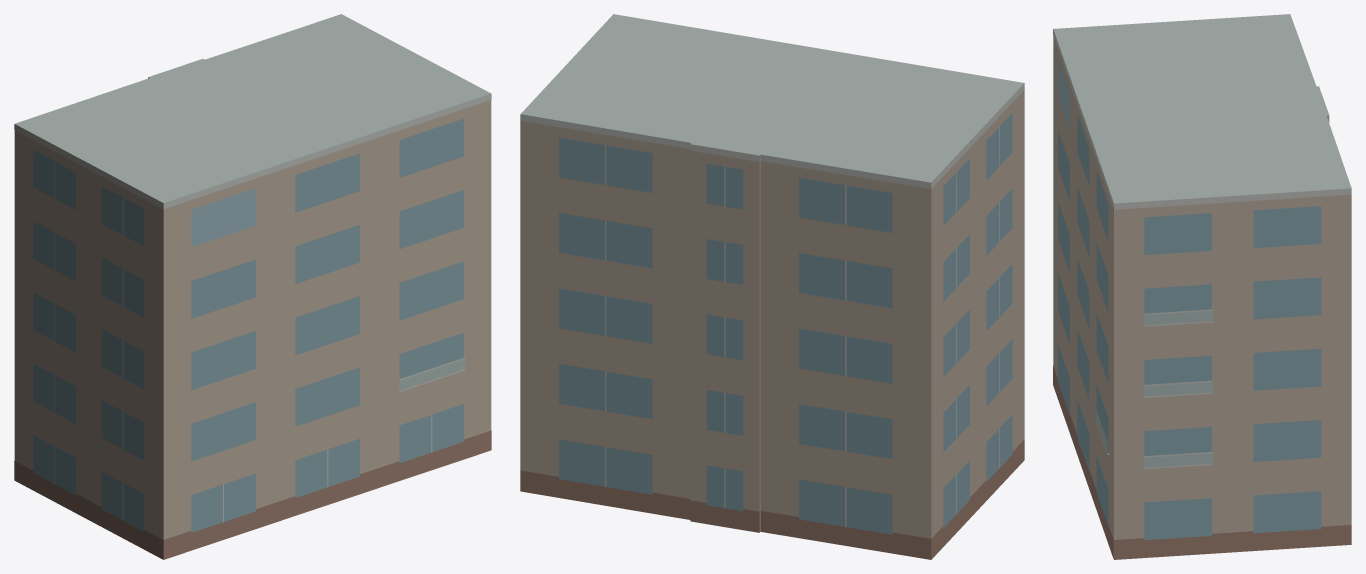
Rendered from survey-upis-32743941.glb.
3 views of the same model, side by side, from view 1: azimuth 30°, elevation 25°; view 2: azimuth 150°, elevation 25°; view 3: azimuth 270°, elevation 25° (orthographic). The views are drawn at different scales.
Visible parts, largest first — view 1: survey-upis-32743941.tmp; view 2: survey-upis-32743941.tmp; view 3: survey-upis-32743941.tmp.
Boxes of the visible parts, x1,y1,x2,y2 form: survey-upis-32743941.tmp: [14, 14, 491, 559]; survey-upis-32743941.tmp: [520, 14, 1024, 559]; survey-upis-32743941.tmp: [1053, 14, 1351, 559].
Bounding box in the file's own units: 15.98 × 14 × 10.64.
